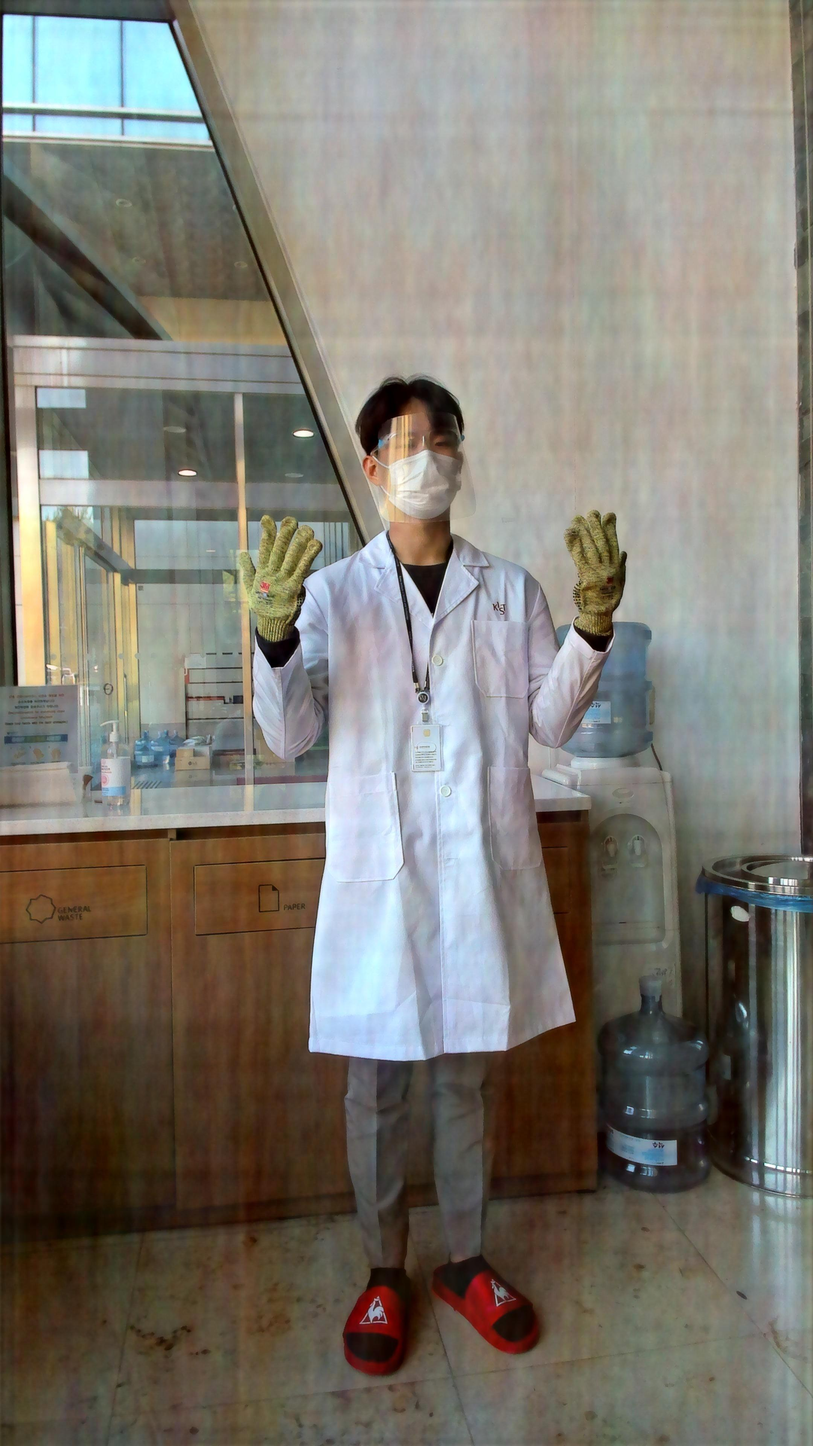Lab_coat: (251, 529, 616, 1063)
